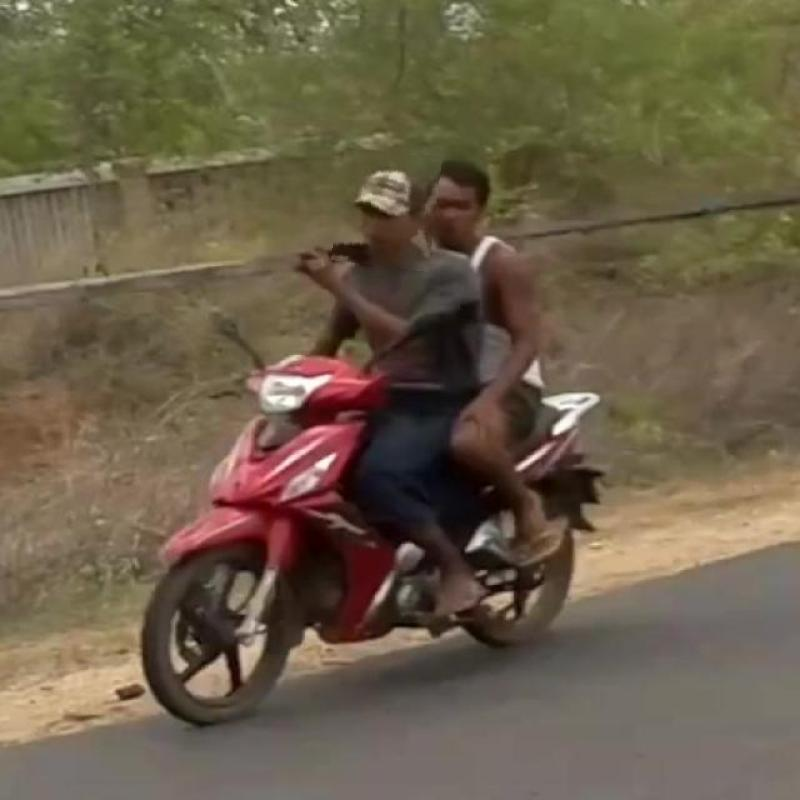nohelmet: (334, 150, 440, 270)
